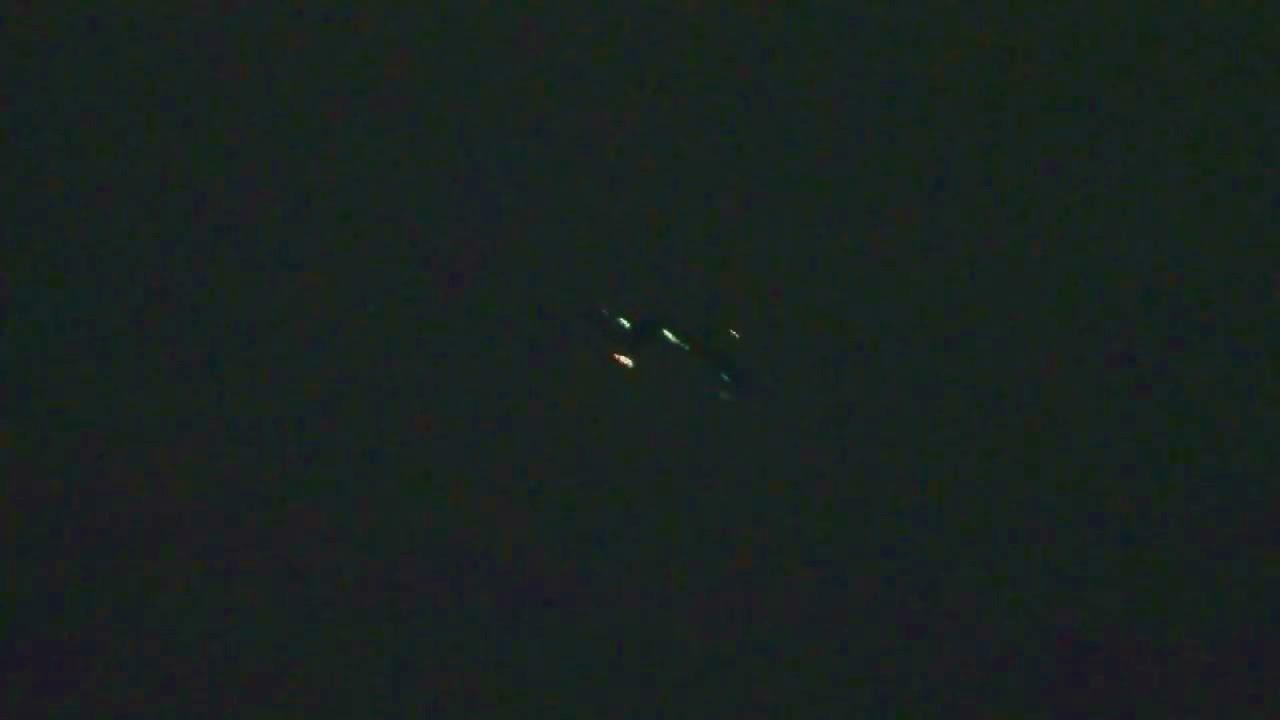Plane: (562, 294, 802, 440)
